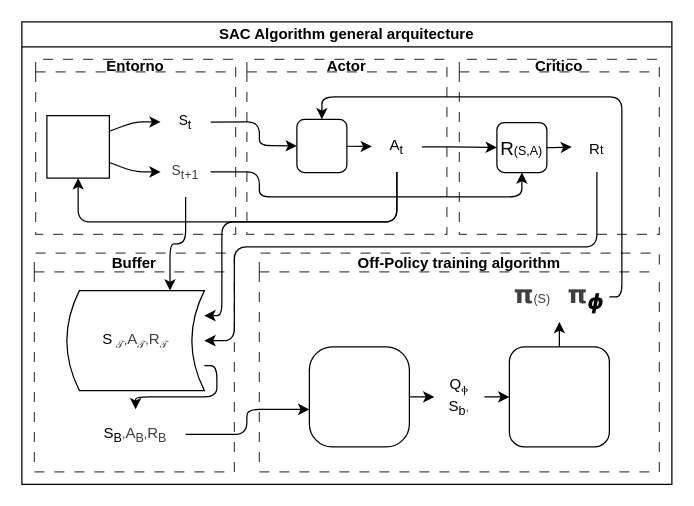
The diagram is 694 pixels wide and 506 high, and some of its shapes have lost their labels. Each missing label, with the centre of its shape:
"Actualizacion de red 𝝿 𝟇" goes at (558,396).
"Actualizacion Parametros Redes Q ⲫ" goes at (358,396).
"P t" goes at (77,146).
"𝝿 (S)" goes at (321,145).
